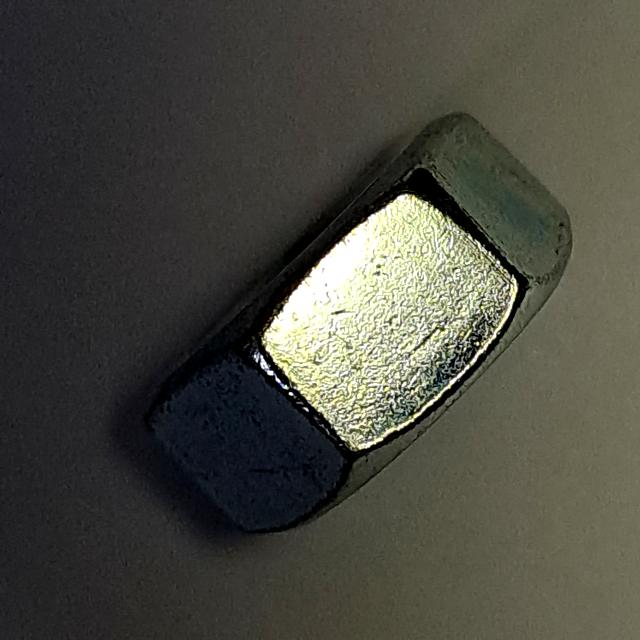Side_Excellent: (134, 102, 591, 544)
